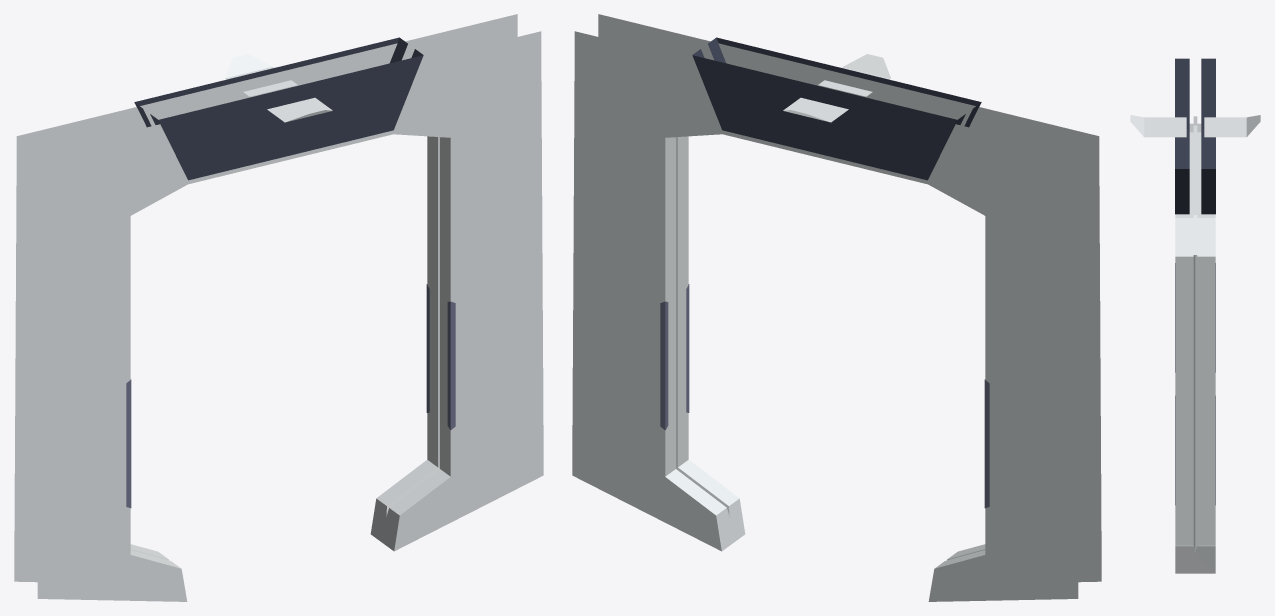
File: Gate.fbx
3 renders of one model, left to right at view 1: azimuth 30°, elevation 25°; view 2: azimuth 150°, elevation 25°; view 3: azimuth 270°, elevation 25°, orthographic. The views are drawn at different scales.
Parts seen in each view (by area): view 1: Gate; view 2: Gate; view 3: Gate.
Part boxes in pixels (box(x1,y1,x2,y2)): Gate: box(14, 14, 543, 601); Gate: box(572, 14, 1101, 601); Gate: box(1130, 58, 1260, 573).
Size of the model in its own units: 2.45 by 2.26 by 0.6416.
